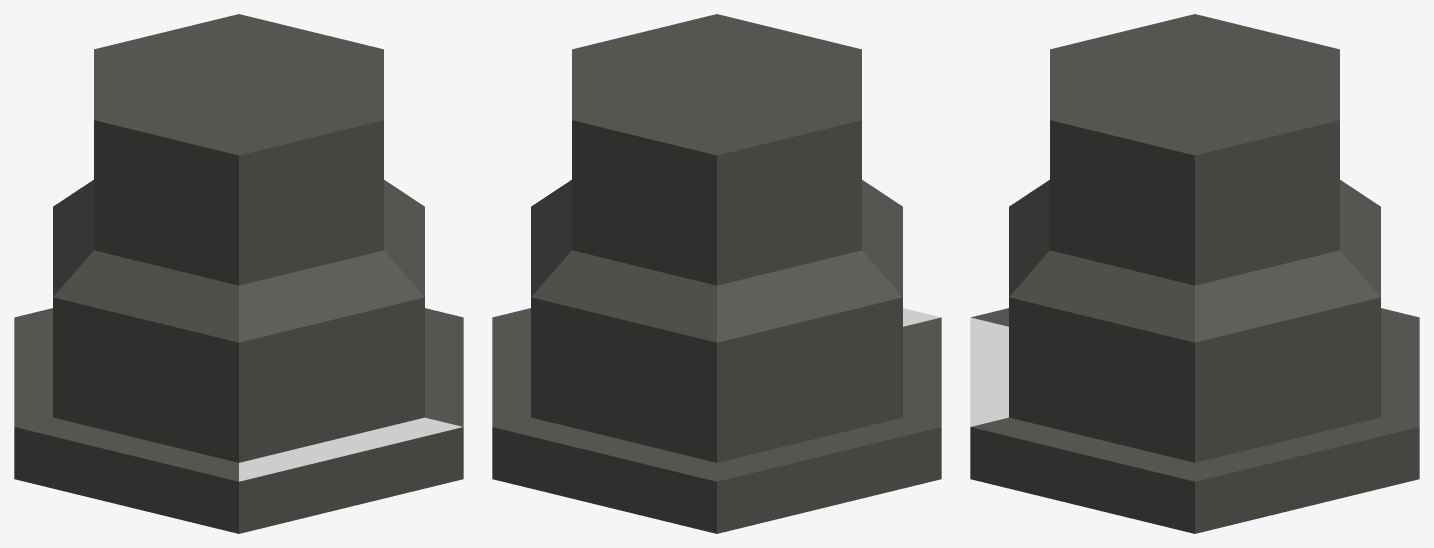
Rendered from Socket1.fbx.
3 views of the same model, side by side, from view 1: azimuth 30°, elevation 25°; view 2: azimuth 150°, elevation 25°; view 3: azimuth 270°, elevation 25° (orthographic).
Parts seen in each view (by area): view 1: Socket1; view 2: Socket1; view 3: Socket1.
Part boxes in pixels (x1=…): Socket1: x1=14, y1=14, x2=463, y2=533; Socket1: x1=492, y1=14, x2=941, y2=533; Socket1: x1=970, y1=14, x2=1419, y2=533.
Bounding box in the file's own units: 90 × 65.05 × 77.94.
